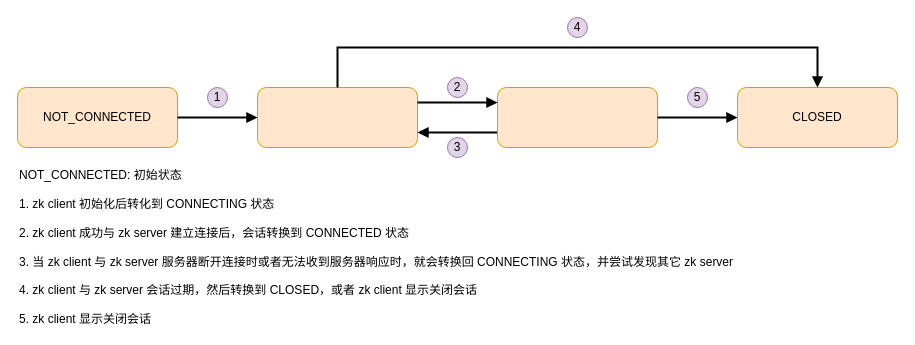
This 915x345 diagram has some shape labels left out. The shapes that lost their labels are listed below. From the top down, each one's centre as x and y in pixels, then its label:
At (x=337, y=117): "CONNECTING".
At (x=577, y=117): "CONNECTED".
